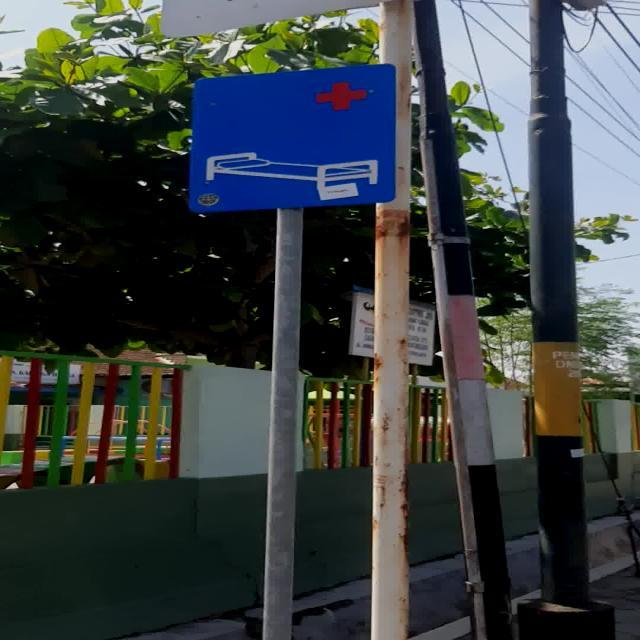Rumah Sakit: (188, 63, 398, 213)
